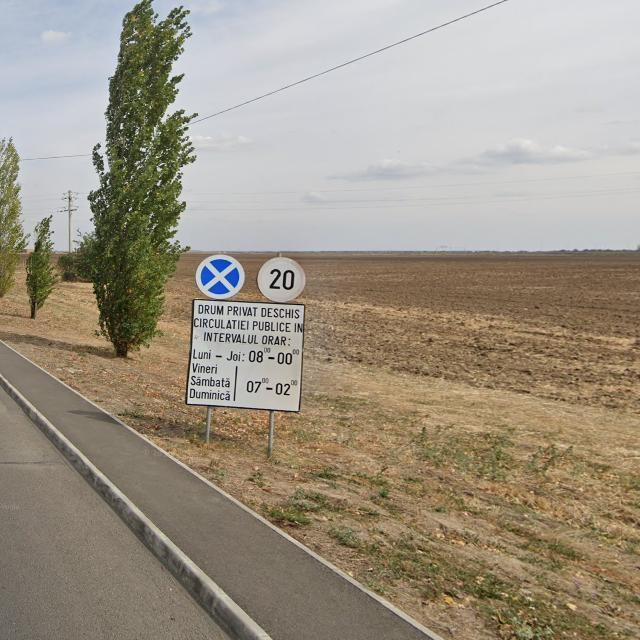forb_speed_over_20: (257, 257, 307, 302)
forb_waiting: (195, 255, 245, 299)
